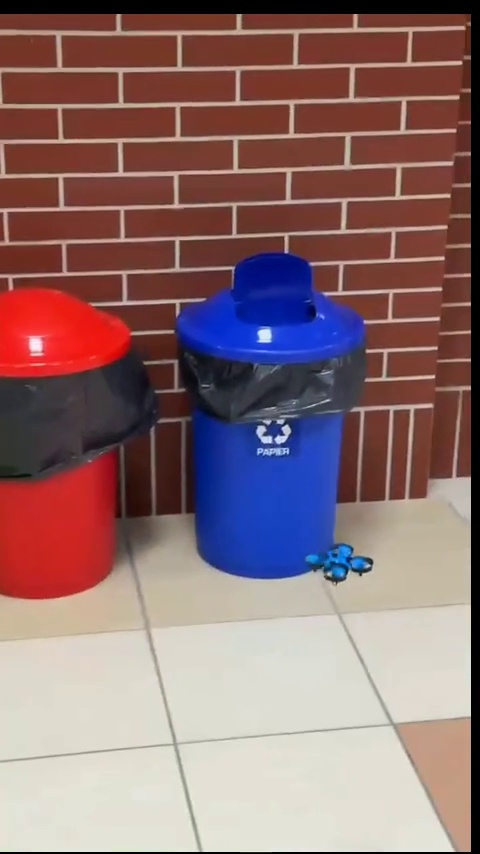drone: (301, 543, 377, 583)
